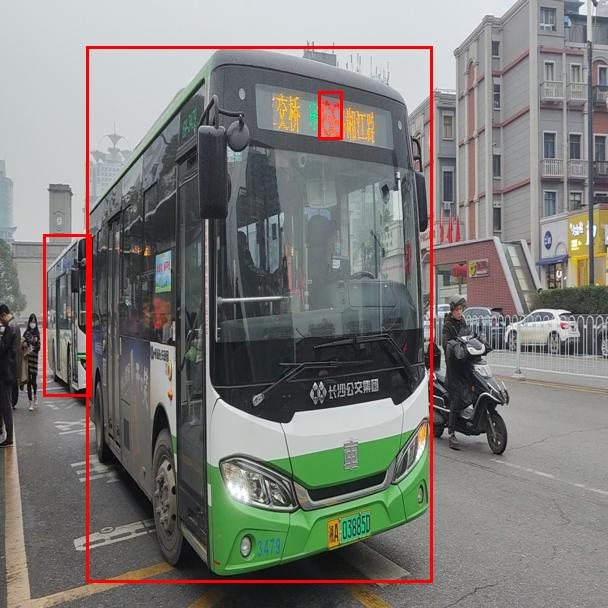bus: (86, 46, 432, 582), (43, 234, 91, 396)
screen: (318, 91, 342, 139)
